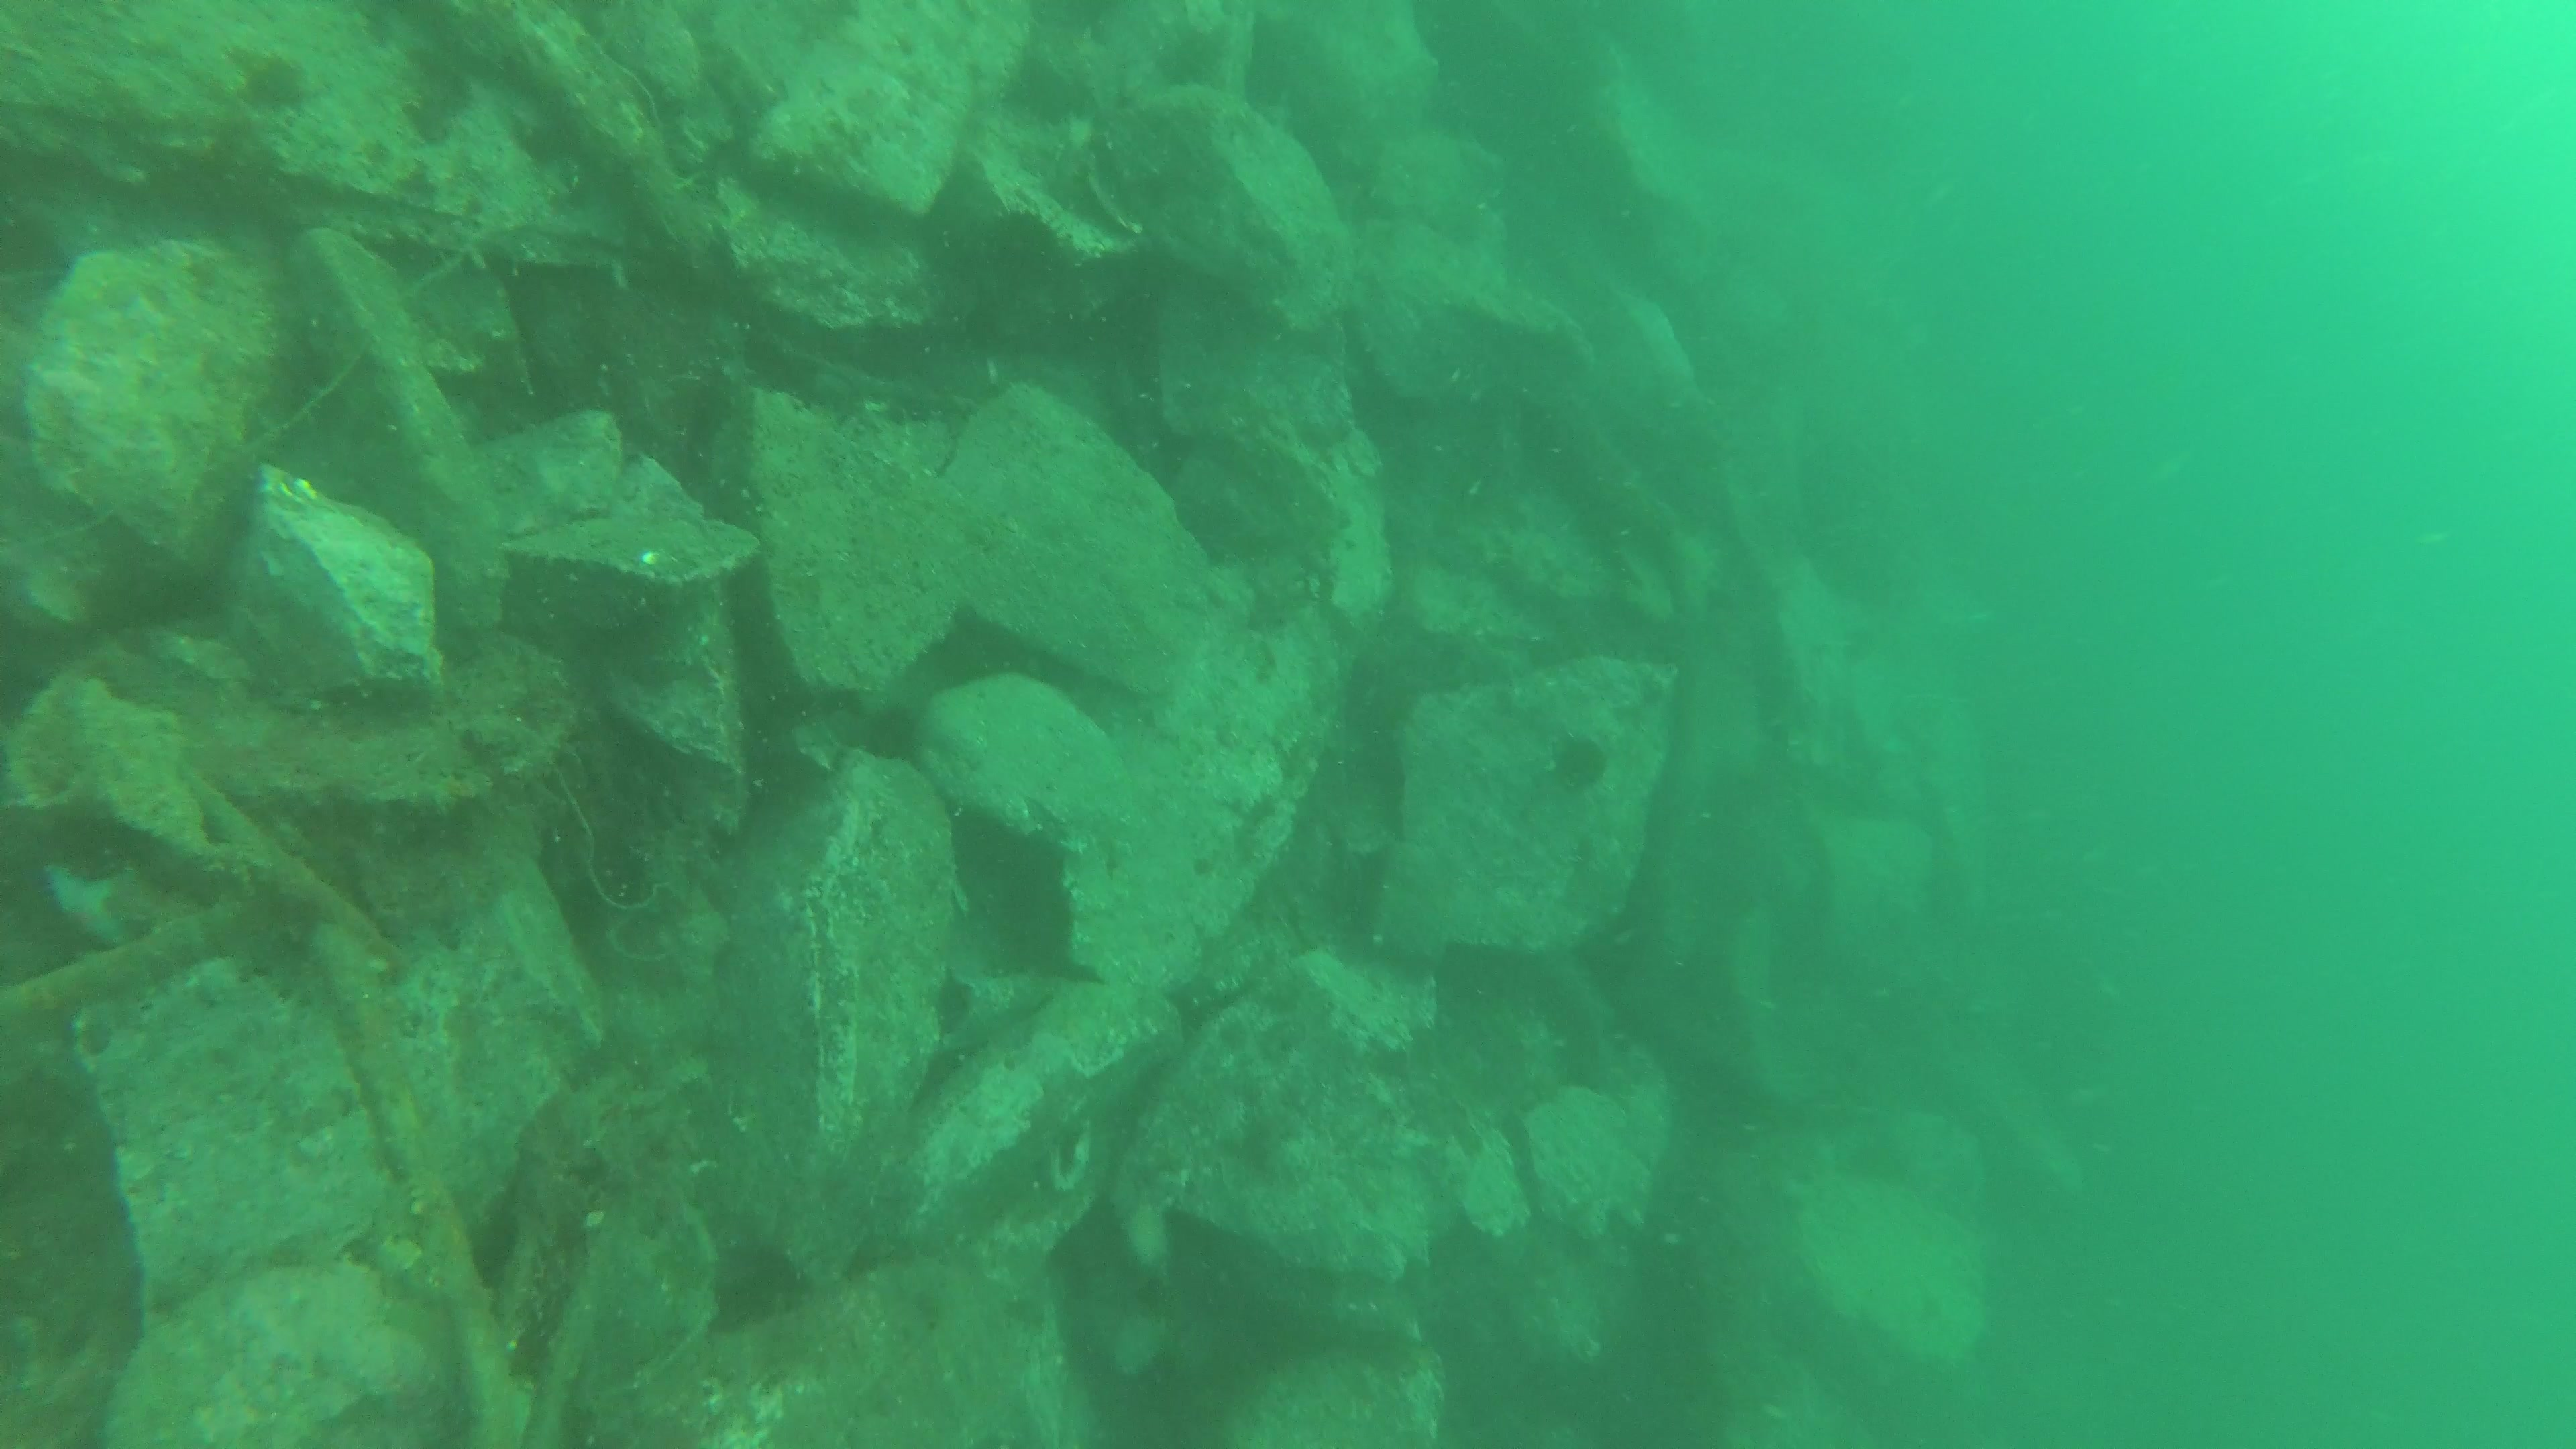echinus: (1557, 732, 1622, 794)
